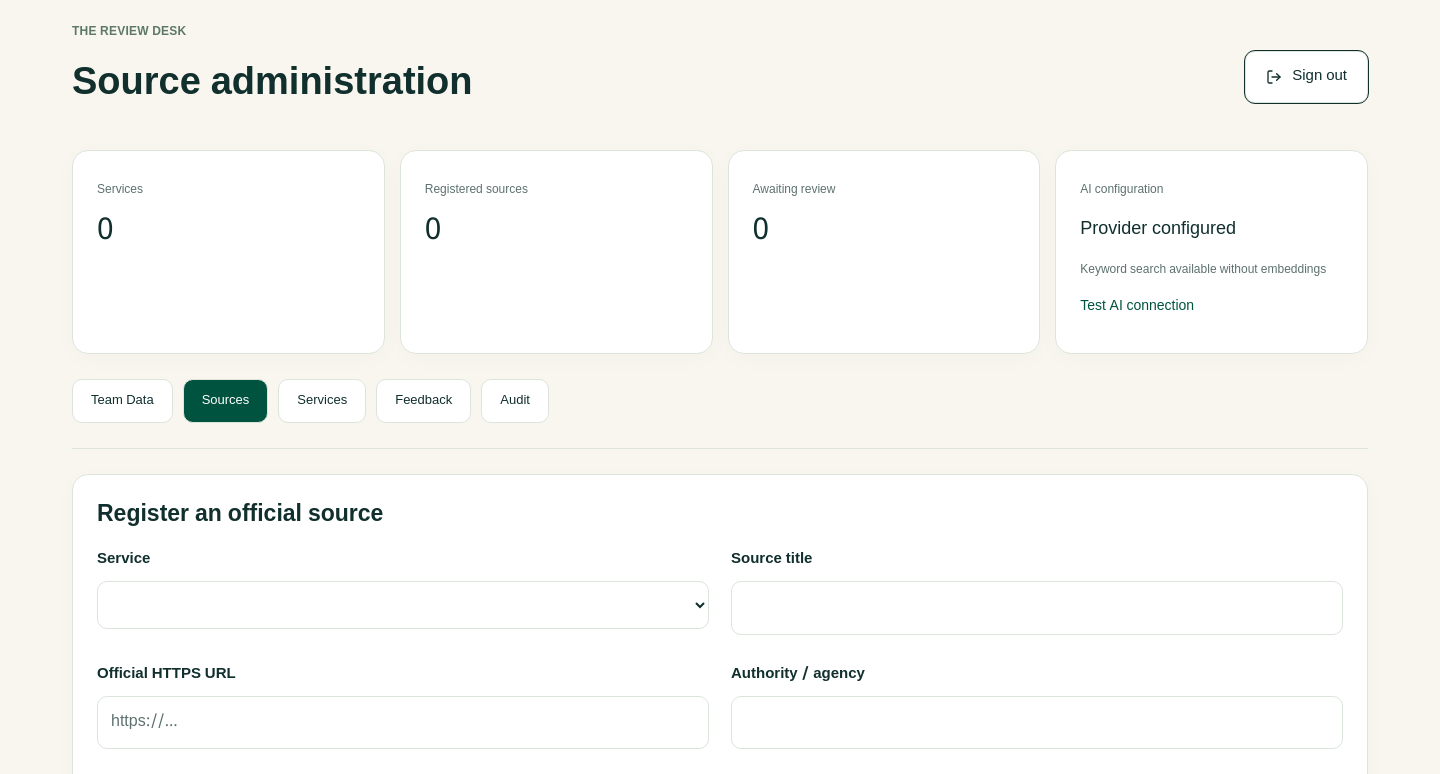
Scenario: displays an actionable provider failure
Click the button "Test AI connection". click: (1137, 307)
box: [1080,285,1194,329]
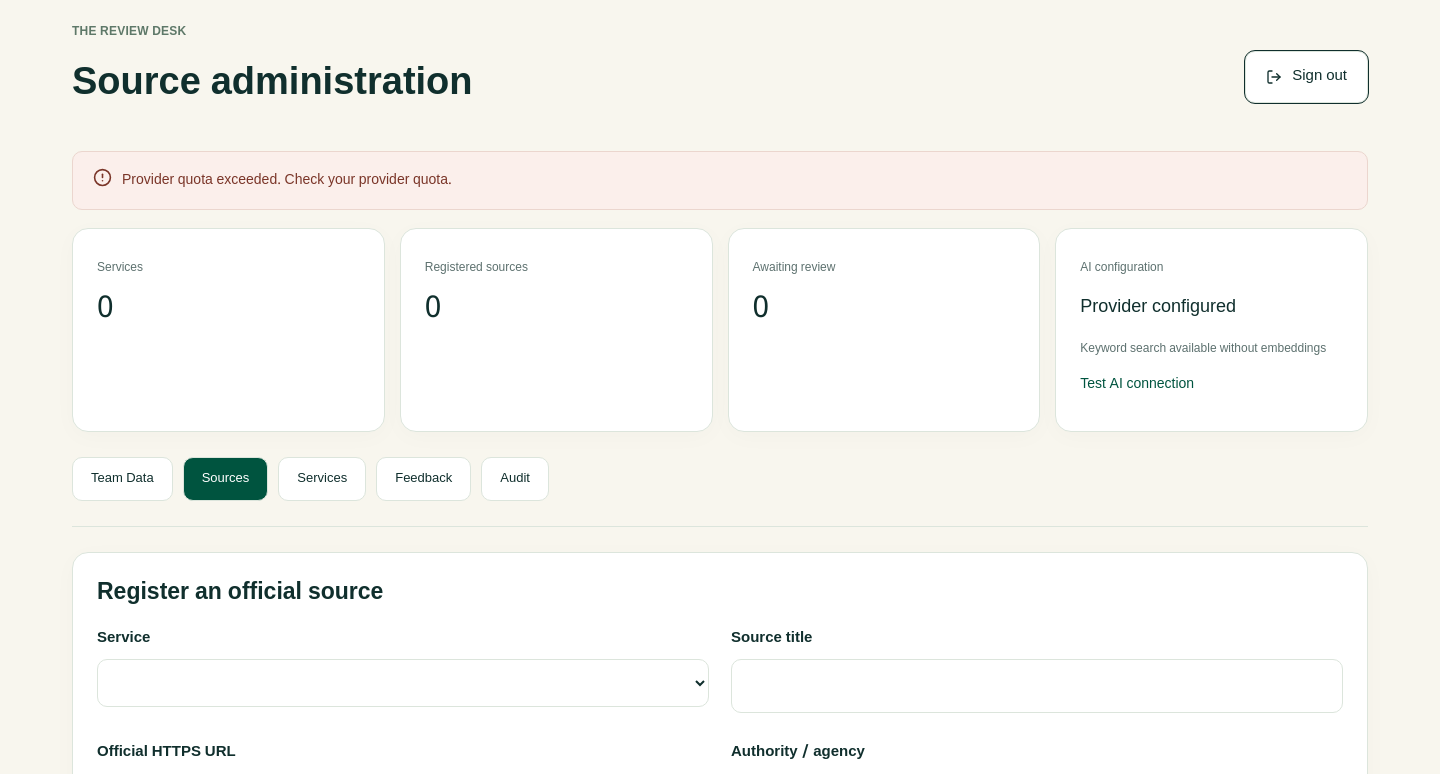
Expected: the text "Provider quota exceeded. Check your provider quota." is shown, [122,168,452,193]
